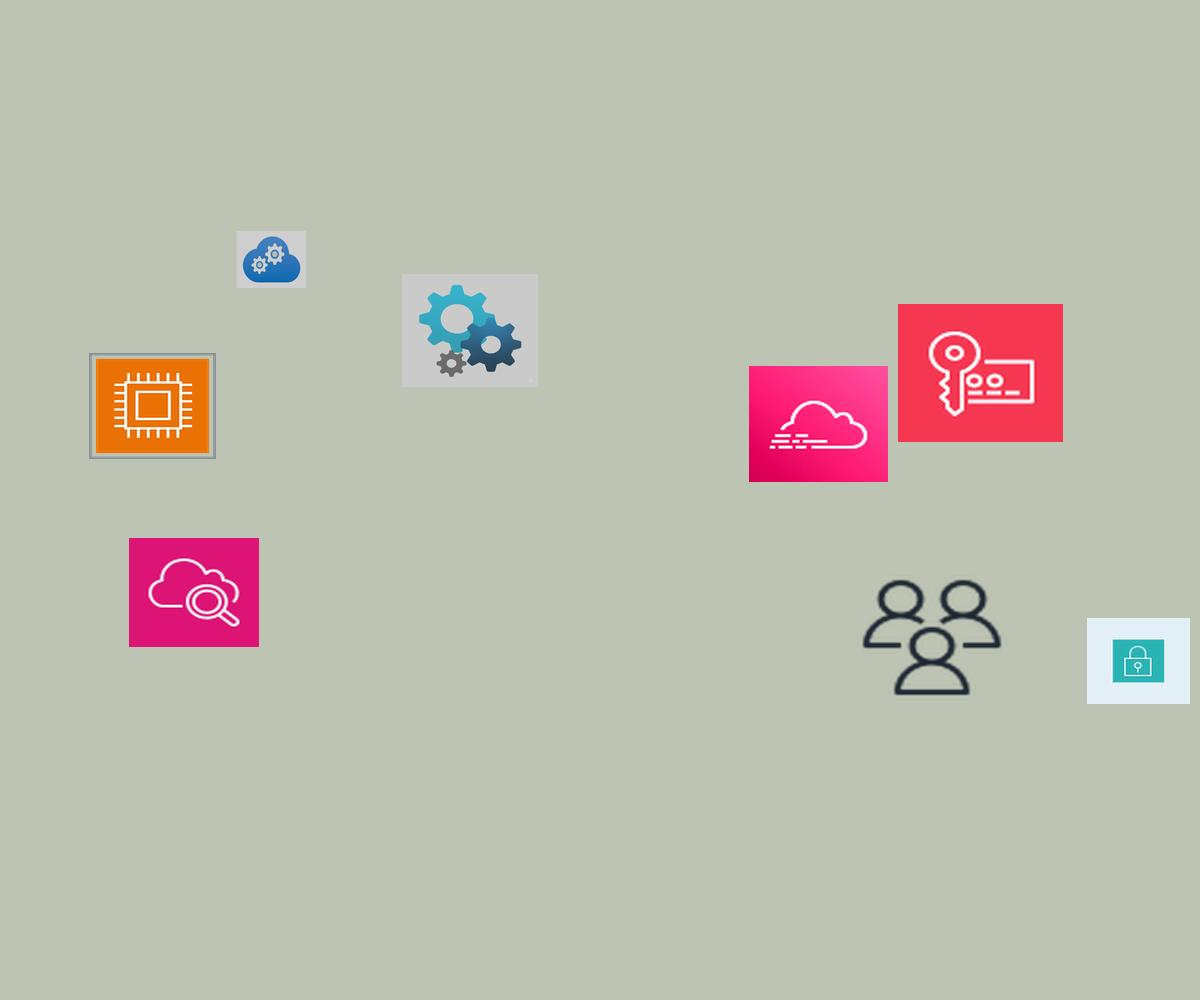AWS-Category_Compute: (89, 353, 216, 459)
AWS-CloudTrail: (749, 366, 888, 482)
AWS-CloudWatch: (129, 538, 259, 647)
AWS-Key-Management-Service: (898, 304, 1063, 442)
AWS-Private-subnet: (1087, 618, 1190, 704)
AWS-Res_Users: (857, 575, 1007, 700)
Azure_api: (402, 274, 538, 387)
Azure_cloud_services: (237, 231, 306, 288)
